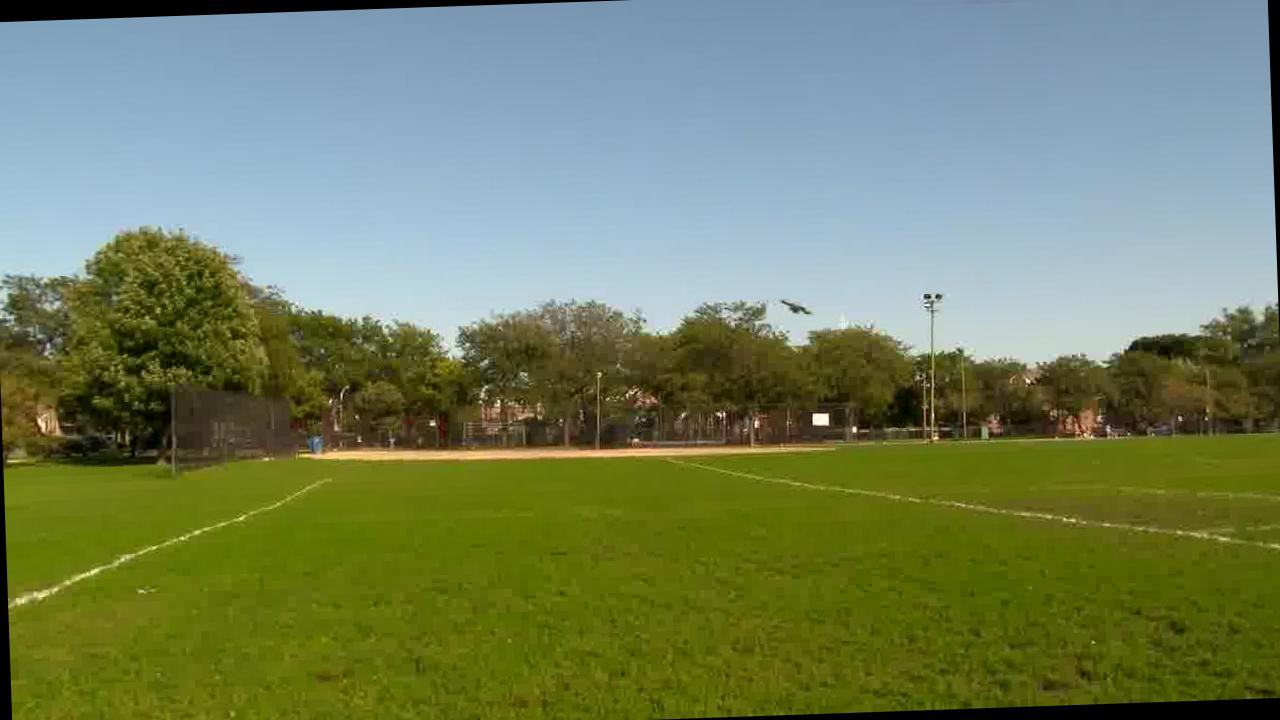drone: (779, 285, 820, 328)
